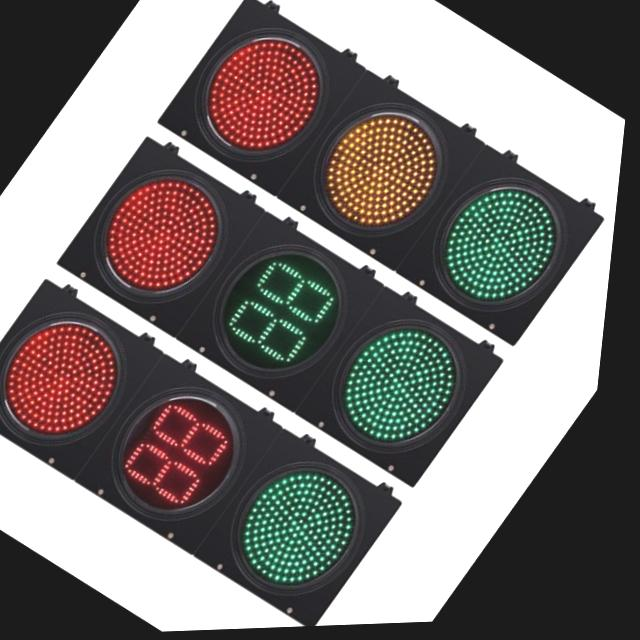Hijau: (424, 169, 590, 326), (232, 452, 392, 606), (328, 313, 489, 466)
Kuning: (306, 98, 464, 248)
Merah: (181, 15, 349, 175), (85, 157, 250, 314), (0, 300, 150, 455)
